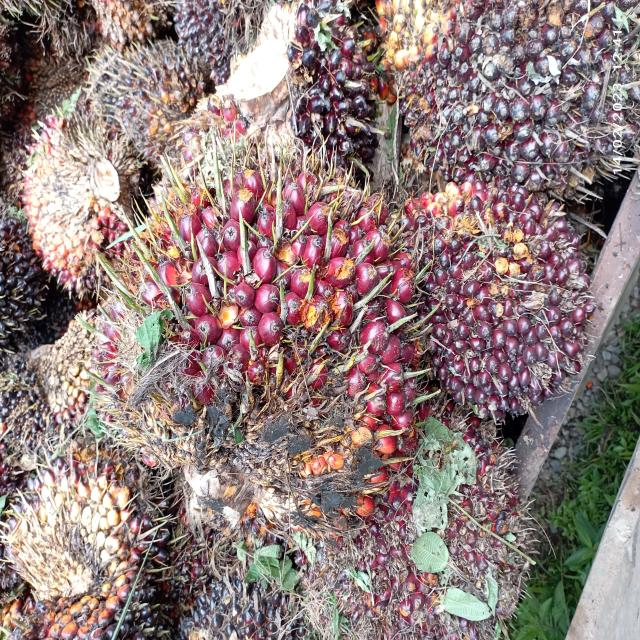fraksi 00: (398, 0, 635, 204), (283, 0, 385, 197), (82, 12, 206, 168), (170, 0, 246, 106)
fraksi 1: (393, 124, 607, 467)
fraksi 3: (99, 74, 438, 549)
